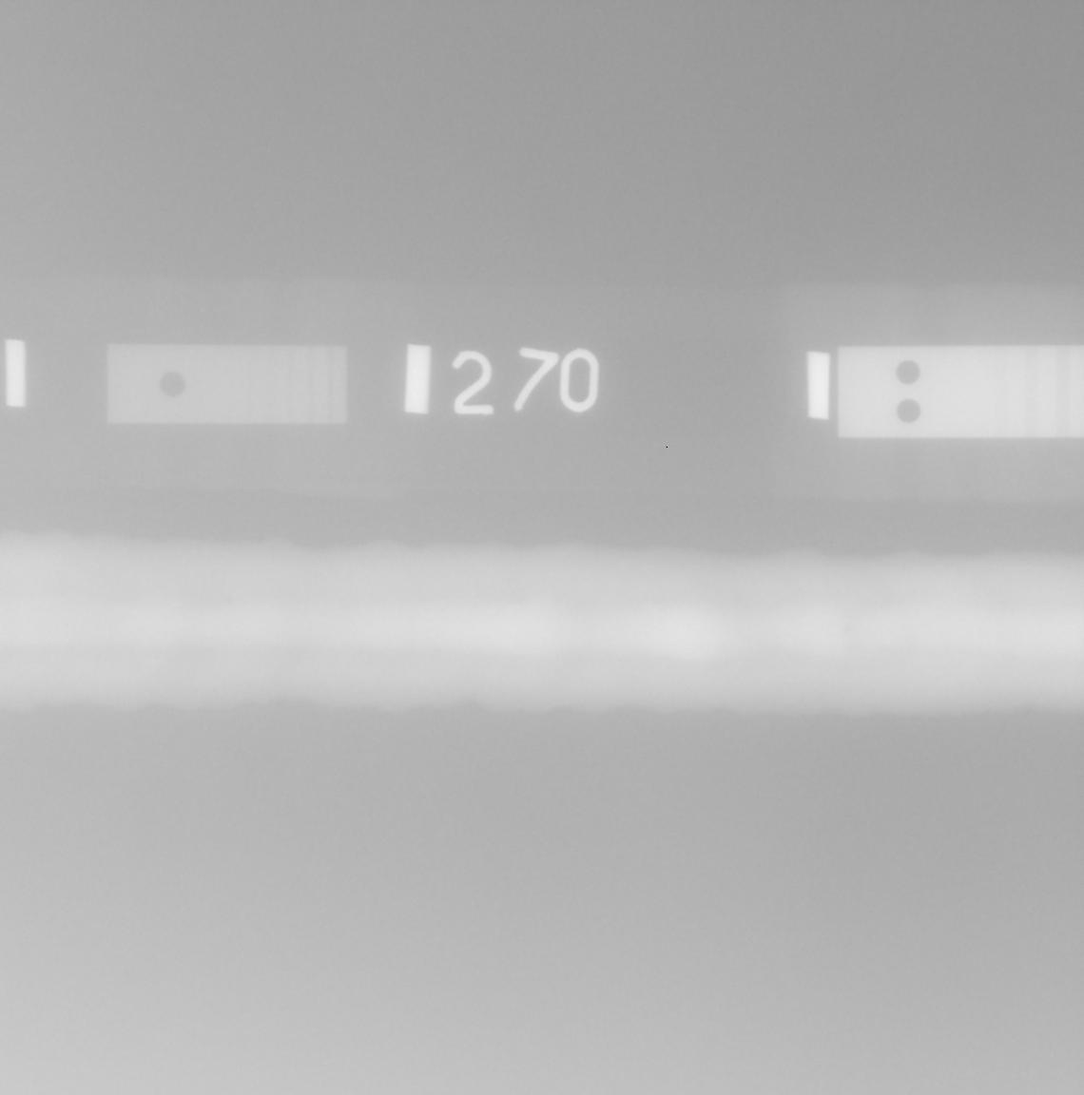Inclusion: (843, 627, 852, 632)
Pore/Porosity: (227, 595, 233, 602)
Reference Standard 1: (108, 344, 347, 423)
